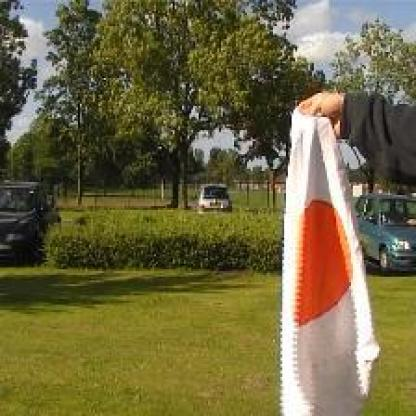other: (275, 184, 372, 338)
